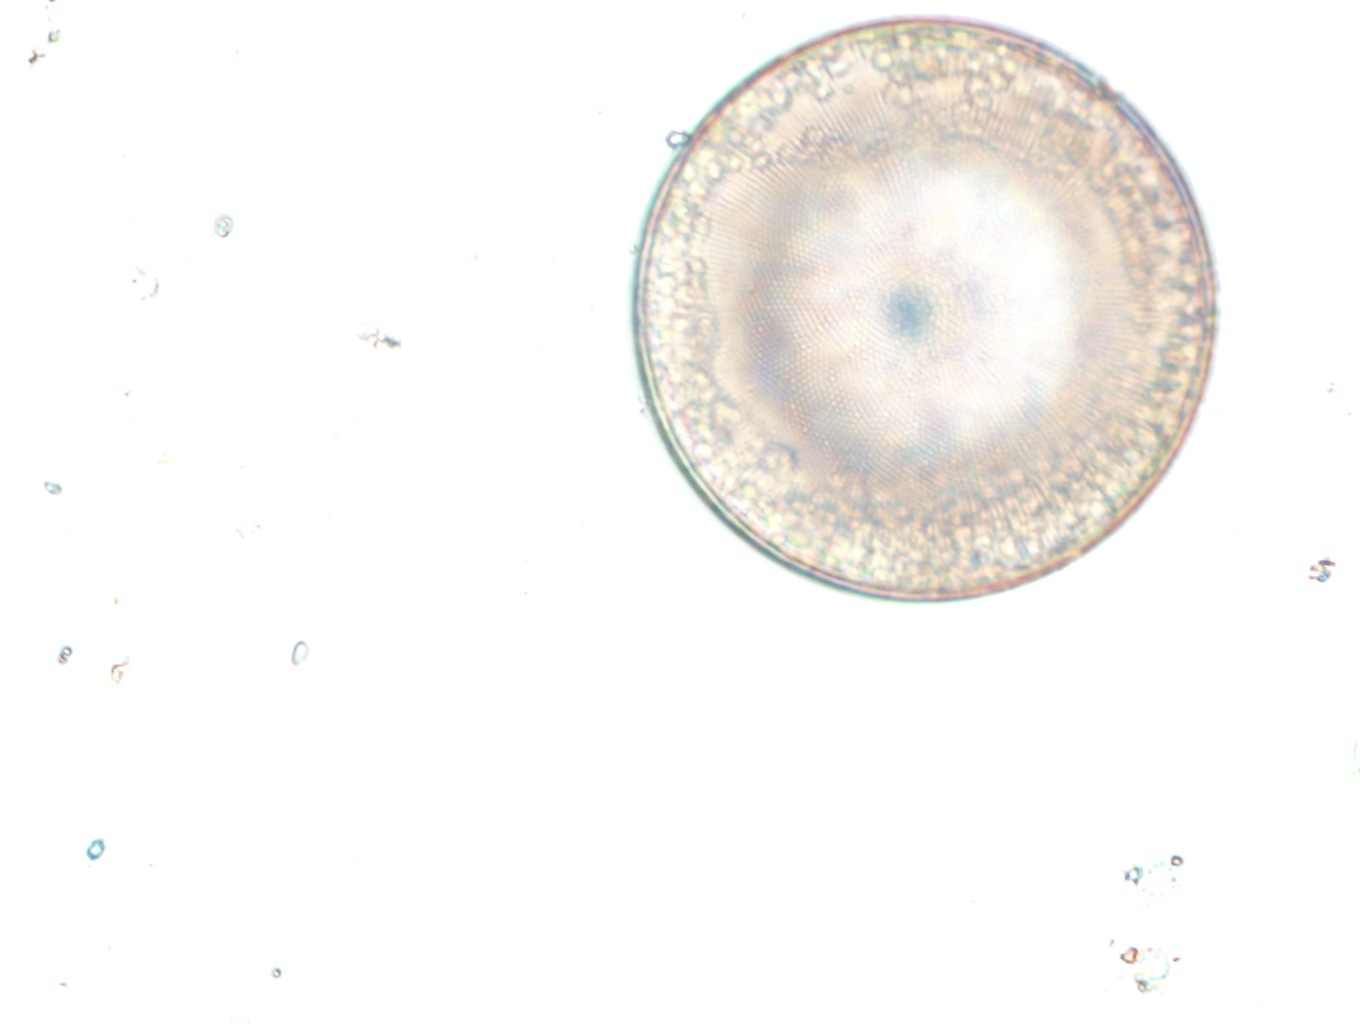coscinodiscus: (629, 14, 1216, 603)
